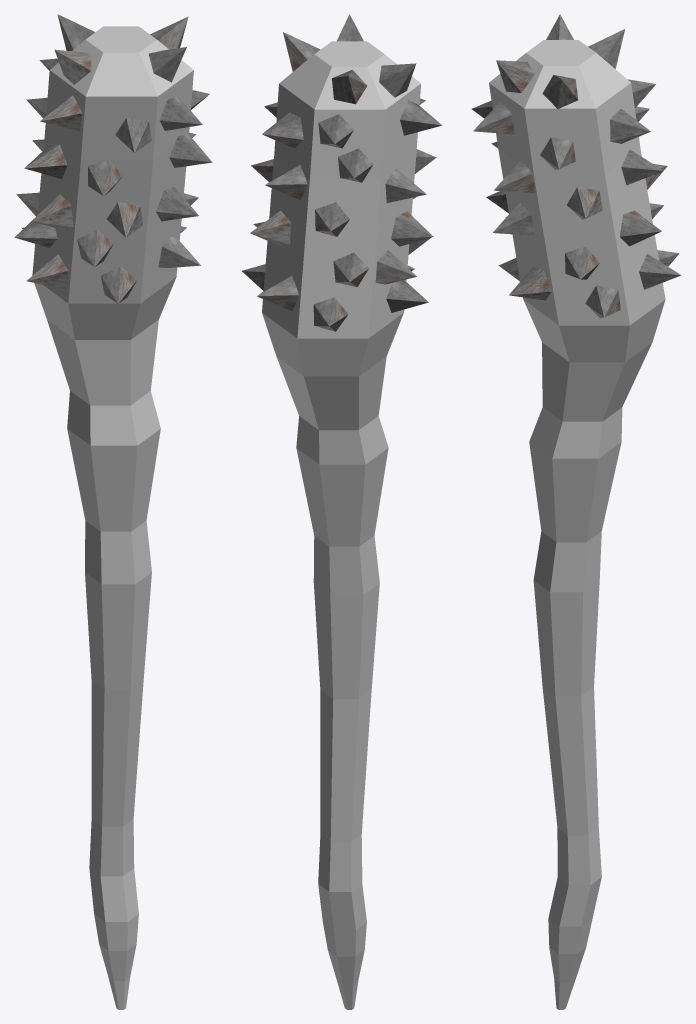
The model's file is spiked_club.obj.
The picture shows the model from 3 angles, left to right: view 1: azimuth 30°, elevation 25°; view 2: azimuth 150°, elevation 25°; view 3: azimuth 270°, elevation 25°; orthographic projection.
Parts seen in each view (by area): view 1: Cylinder, Cone.007, Cone.008, Cone.009, Cone.005, Cone.024, Cone.026, Cone.004, Cone.031, Cone.001, Cone.002, Cone.003 (+7 smaller); view 2: Cylinder, Cone.015, Cone.005, Cone.026, Cone.017, Cone.019, Cone.023, Cone.020, Cone.029, Cone.021, Cone.022, Cone.028 (+6 smaller); view 3: Cylinder, Cone.006, Cone.017, Cone.010, Cone.015, Cone.014, Cone.011, Cone.013, Cone.030, Cone.012, Cone.009, Cone.016 (+4 smaller).
Boxes of the visible parts, box(x1,y1,x2,y2) form: Cylinder: box(32, 26, 193, 1009); Cone.007: box(159, 96, 202, 130); Cone.008: box(169, 133, 212, 167); Cone.009: box(156, 187, 198, 221); Cone.005: box(54, 49, 91, 84); Cone.024: box(24, 144, 67, 178); Cone.026: box(31, 194, 73, 229); Cone.004: box(77, 230, 113, 266); Cone.031: box(100, 266, 136, 303); Cone.001: box(107, 202, 142, 237); Cone.002: box(88, 160, 122, 195); Cone.003: box(115, 118, 151, 152); Cylinder: box(262, 41, 420, 1009); Cone.015: box(262, 112, 303, 148); Cone.005: box(379, 63, 416, 97); Cone.026: box(391, 211, 433, 246); Cone.017: box(250, 210, 291, 245); Cone.019: box(333, 252, 368, 286); Cone.023: box(332, 70, 367, 104); Cone.020: box(315, 202, 349, 236); Cone.029: box(313, 297, 348, 331); Cone.021: box(338, 148, 373, 182); Cone.022: box(318, 114, 353, 148); Cone.028: box(375, 250, 416, 284); Cylinder: box(489, 40, 665, 1009); Cone.006: box(496, 60, 534, 92); Cone.017: box(620, 210, 661, 246); Cone.010: box(509, 266, 551, 300); Cone.015: box(610, 108, 650, 143); Cone.014: box(542, 75, 578, 108); Cone.011: box(565, 246, 599, 279); Cone.013: box(540, 137, 575, 169); Cone.030: box(585, 285, 620, 318); Cone.012: box(567, 187, 602, 219); Cone.009: box(493, 202, 534, 235); Cone.016: box(621, 149, 663, 185).
Size of the model in its own units: 1.25 by 6.65 by 1.31.
